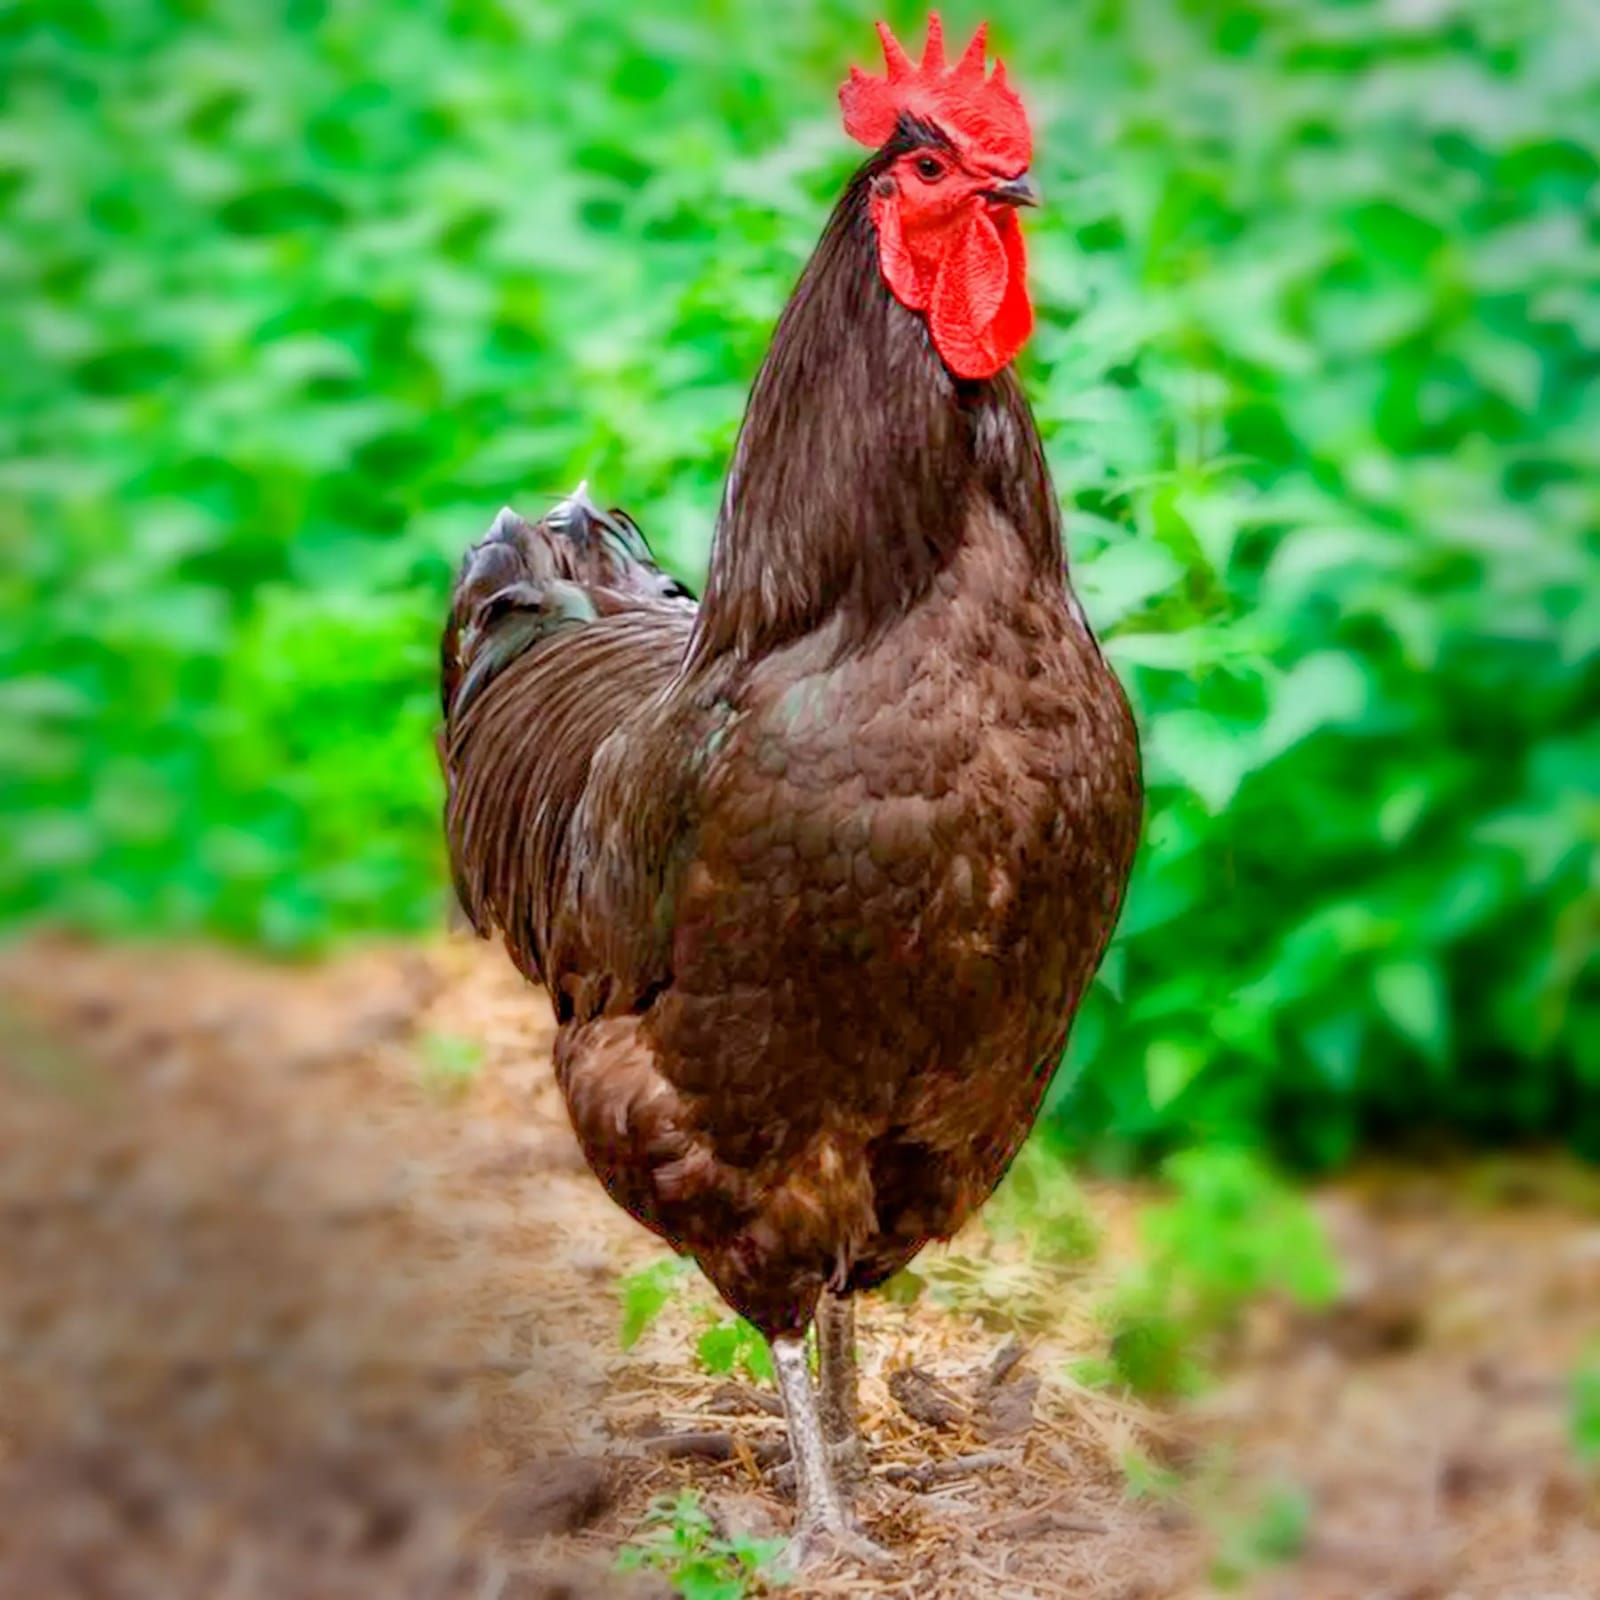Healthy: (423, 26, 1149, 1588)
